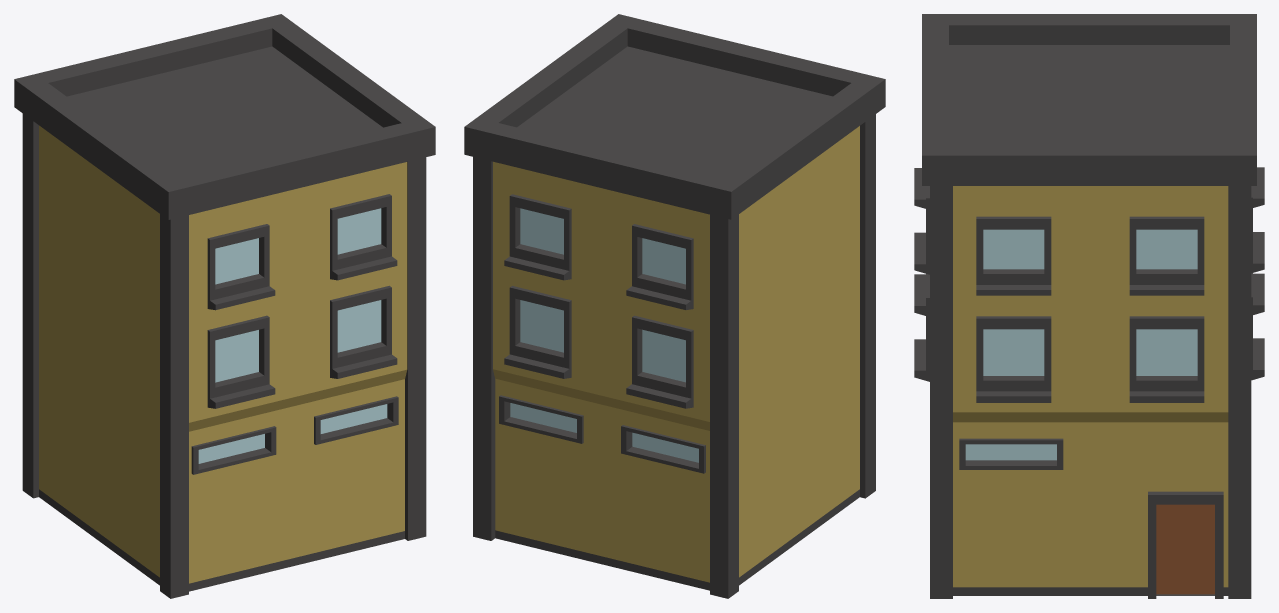
File: house_short.fbx
3 renders of one model, left to right at view 1: azimuth 30°, elevation 25°; view 2: azimuth 150°, elevation 25°; view 3: azimuth 270°, elevation 25°, orthographic. The views are drawn at different scales.
Visible parts, largest first — view 1: Base.126; view 2: Base.126; view 3: Base.126.
Boxes of the visible parts, x1,y1,x2,y2 form: Base.126: [14, 14, 435, 598]; Base.126: [464, 14, 885, 598]; Base.126: [914, 14, 1264, 598].
Size of the model in its own units: 895 by 1285 by 915.
